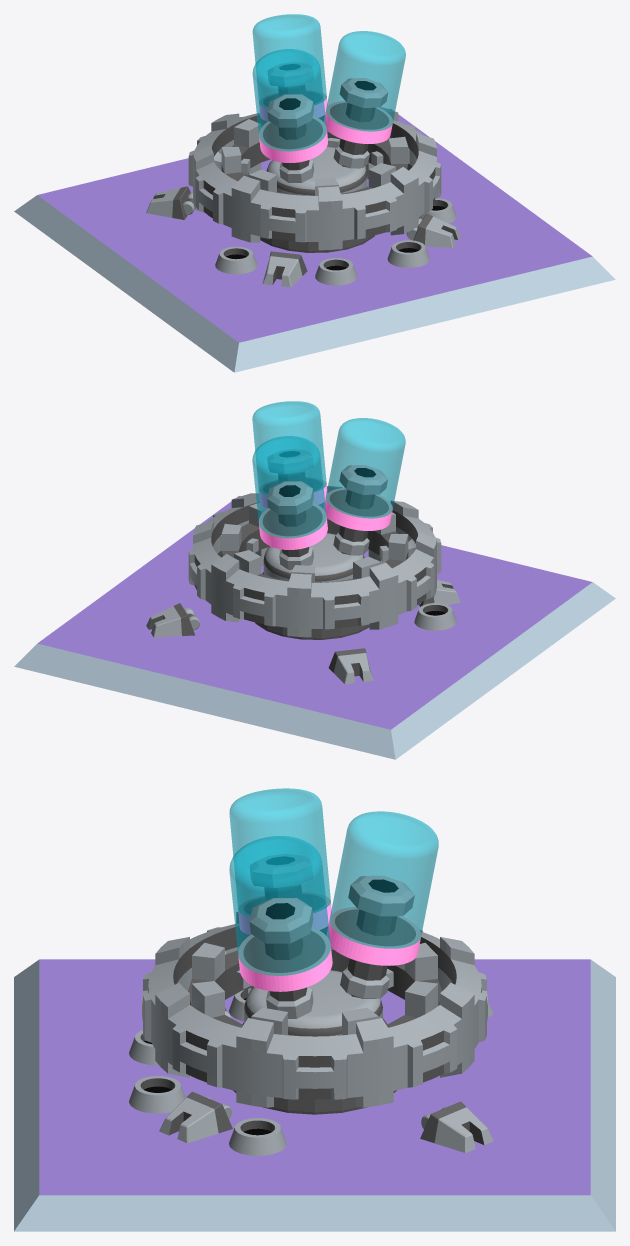
The model's file is 76_Haarvester_ALPHA3.fbx.
3 views of the same model, one above another, from view 1: azimuth 30°, elevation 25°; view 2: azimuth 150°, elevation 25°; view 3: azimuth 270°, elevation 25° (orthographic). The views are drawn at different scales.
Visible parts, largest first — view 1: foundation_harvester3, pCylinder66 (×3), pPipe1, pump5 (×3), pPipe2, polySurface40 (×3), pCylinder67, pPipe18, pPipe19, pPipe20, pSphere22, pPipe21 (+2 smaller); view 2: foundation_harvester3, pCylinder66 (×3), pPipe1, pump5 (×3), pPipe2, polySurface40 (×3), pCylinder67, pPipe18, pSphere22, pump9; view 3: foundation_harvester3, pCylinder66 (×3), pPipe1, pump5 (×3), pPipe2, polySurface40 (×2), pCylinder67, pPipe21, pPipe20, pSphere22, pump10, pump8 (+1 smaller).
Part boxes in pixels (<box>): foundation_harvester3: <box>14,109,615,372</box>; pCylinder66 (×3): <box>252,14,405,162</box>; pPipe1: <box>188,107,441,250</box>; pump5 (×3): <box>267,62,388,170</box>; pPipe2: <box>221,119,408,195</box>; polySurface40 (×3): <box>146,186,460,287</box>; pCylinder67: <box>266,146,367,195</box>; pPipe18: <box>215,246,257,274</box>; pPipe19: <box>315,258,357,285</box>; pPipe20: <box>387,240,429,267</box>; pSphere22: <box>260,186,374,252</box>; pPipe21: <box>418,198,456,223</box>; foundation_harvester3: <box>14,496,615,759</box>; pCylinder66 (×3): <box>252,401,405,549</box>; pPipe1: <box>188,486,441,637</box>; pump5 (×3): <box>267,449,387,556</box>; pPipe2: <box>221,502,408,582</box>; polySurface40 (×3): <box>146,580,460,683</box>; pCylinder67: <box>263,533,364,582</box>; pPipe18: <box>414,603,456,630</box>; pSphere22: <box>255,572,369,639</box>; pump9: <box>333,532,369,555</box>; foundation_harvester3: <box>14,959,615,1231</box>; pCylinder66 (×3): <box>229,788,438,991</box>; pPipe1: <box>142,912,487,1107</box>; pump5 (×3): <box>249,854,414,1001</box>; pPipe2: <box>188,942,441,1036</box>; polySurface40 (×2): <box>159,1091,493,1152</box>; pCylinder67: <box>244,970,382,1036</box>; pPipe21: <box>229,1118,286,1155</box>; pPipe20: <box>129,1076,185,1113</box>; pSphere22: <box>233,1018,396,1114</box>; pump10: <box>340,967,389,998</box>; pump8: <box>266,987,313,1018</box>.
Bounding box in the file's own units: 2 × 1.22 × 2.
